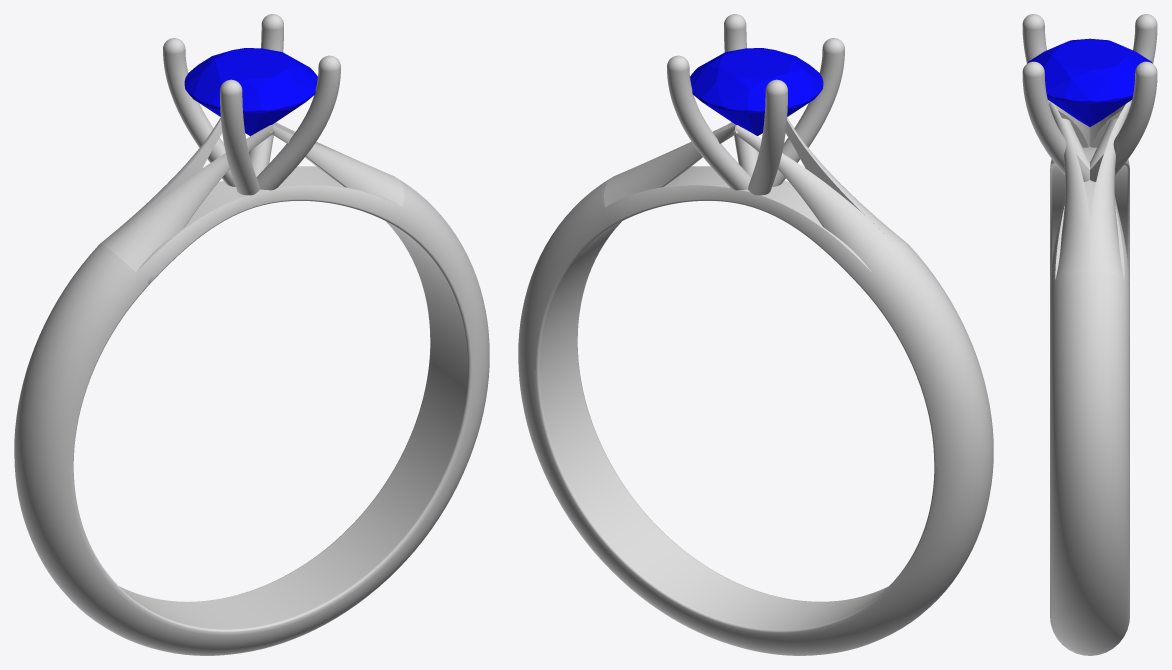
3 renders of one model, left to right at view 1: azimuth 30°, elevation 25°; view 2: azimuth 150°, elevation 25°; view 3: azimuth 270°, elevation 25°, orthographic.
Visible parts, largest first — view 1: anillo Glamour 3 Grs.3dm; view 2: anillo Glamour 3 Grs.3dm; view 3: anillo Glamour 3 Grs.3dm.
Part boxes in pixels (x1,y1,x2,y2): anillo Glamour 3 Grs.3dm: (14,14,489,655); anillo Glamour 3 Grs.3dm: (518,14,993,655); anillo Glamour 3 Grs.3dm: (1022,14,1157,655).
Bounding box in the file's own units: 2.49 × 3.07 × 0.6333.
